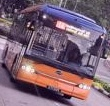bus: (55, 19, 66, 30)
